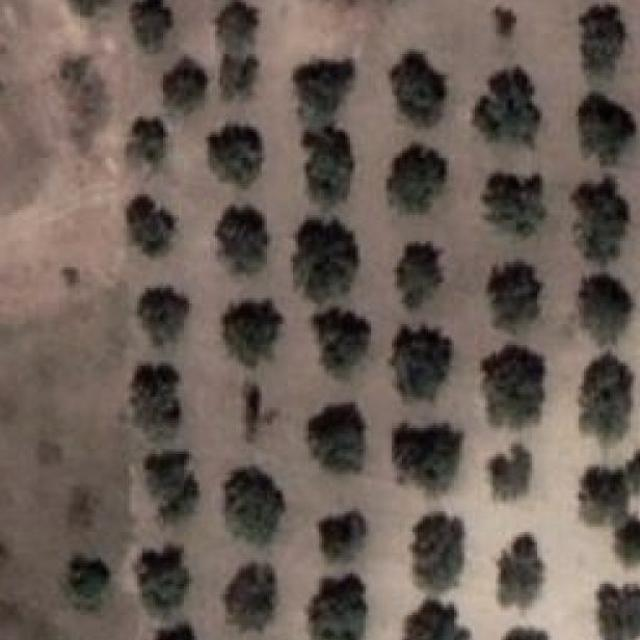Tree: (296, 220, 360, 304), (483, 345, 546, 429), (473, 68, 541, 144), (572, 176, 630, 263), (394, 423, 464, 492), (225, 468, 287, 544), (582, 354, 635, 439), (298, 123, 353, 204), (392, 328, 453, 400), (223, 298, 285, 367), (412, 514, 464, 594), (386, 146, 447, 213), (579, 94, 637, 164), (392, 52, 446, 126), (578, 275, 634, 346), (314, 309, 372, 377), (308, 402, 364, 472), (485, 173, 547, 236), (296, 54, 358, 116), (308, 573, 365, 640), (488, 262, 544, 330), (132, 364, 180, 441), (215, 205, 266, 273), (137, 545, 190, 610), (226, 563, 276, 631), (499, 535, 544, 610), (148, 454, 198, 520), (578, 4, 626, 72), (208, 125, 261, 185), (126, 194, 176, 257), (137, 288, 190, 347), (397, 244, 444, 309), (582, 466, 630, 524), (163, 57, 209, 116), (407, 599, 473, 640), (594, 584, 640, 640), (488, 444, 533, 501), (319, 511, 369, 561), (213, 0, 262, 47), (132, 0, 173, 53), (72, 556, 111, 611), (127, 116, 166, 166), (220, 51, 259, 98), (615, 516, 640, 566), (142, 623, 200, 640), (504, 627, 549, 640)
